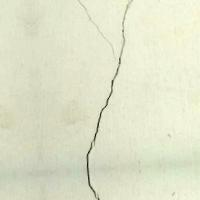crack: (68, 0, 132, 199)
